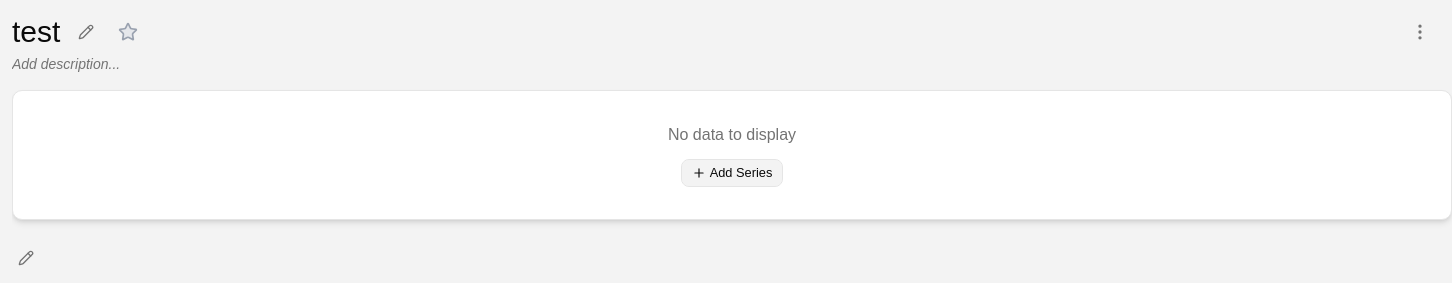
it: TrackerDetailView › orders tracker menu as Series, Data Points, Settings and omits Add Series
The width and height of the screenshot is (1452, 283).
Click the button named "tracker menu": (1420, 32) [1404, 16, 1436, 48]
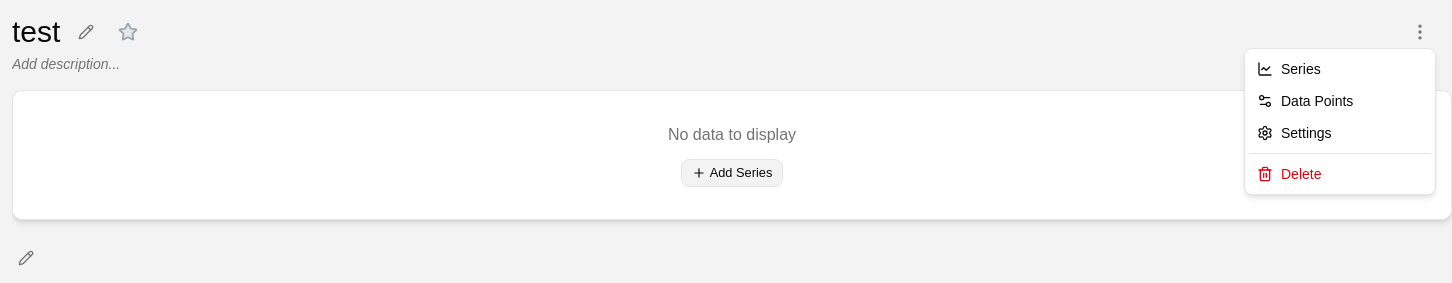
Expected: the menu items read "Series", "Data Points", "Settings", "Delete", in this order, [1257, 61, 1321, 77]; [1257, 93, 1353, 109]; [1257, 125, 1332, 141]; [1257, 166, 1322, 182]
